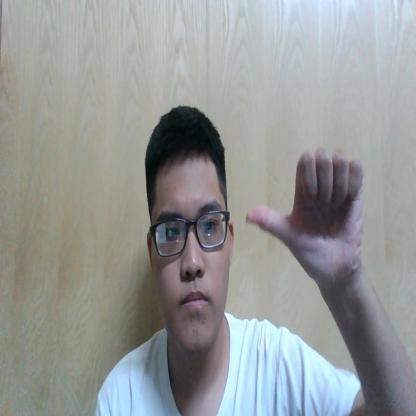right: (246, 148, 365, 276)
